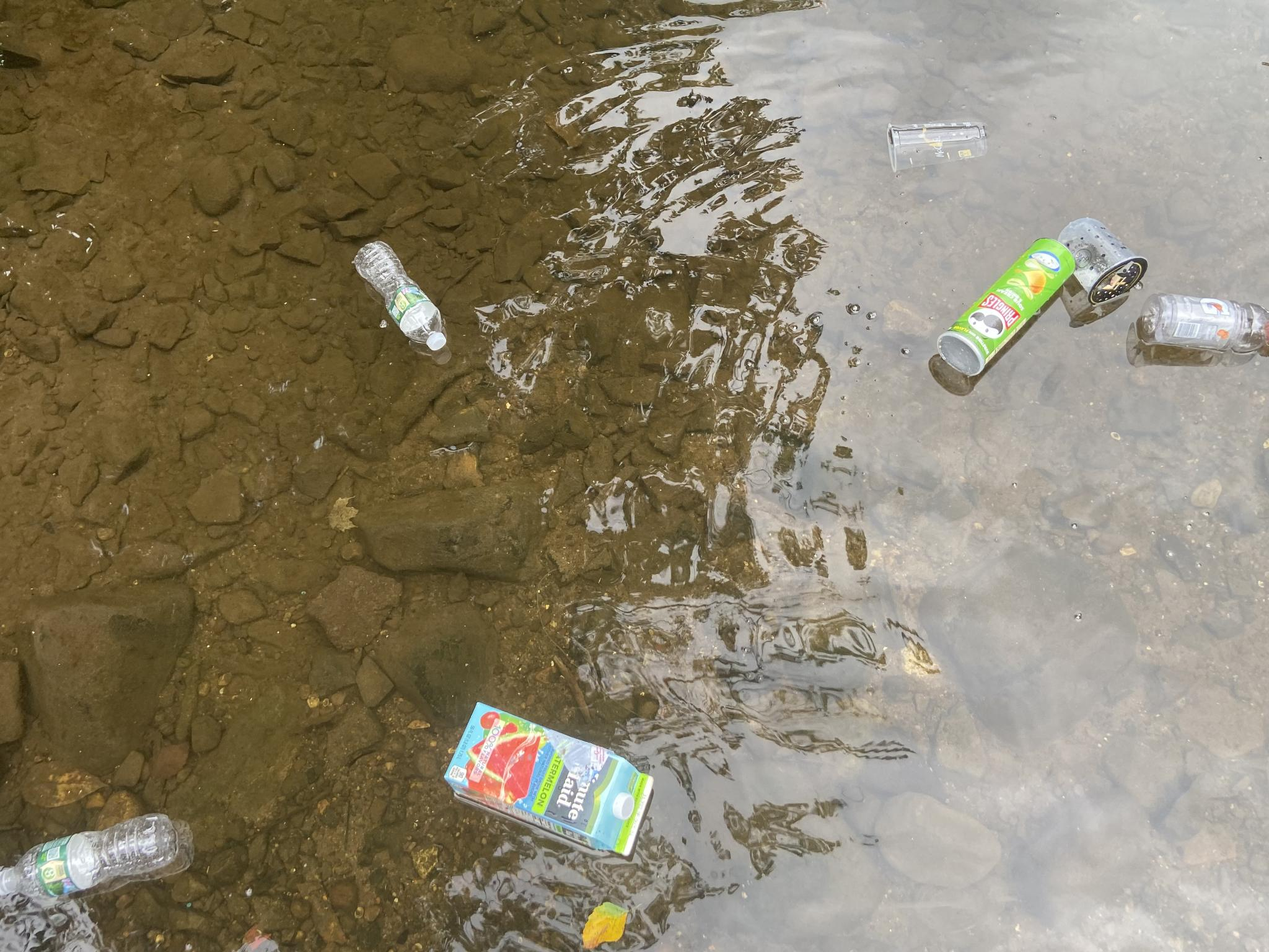cardboard: (84, 437, 257, 665)
plastic: (38, 0, 152, 197), (593, 345, 723, 451), (772, 880, 838, 952)
